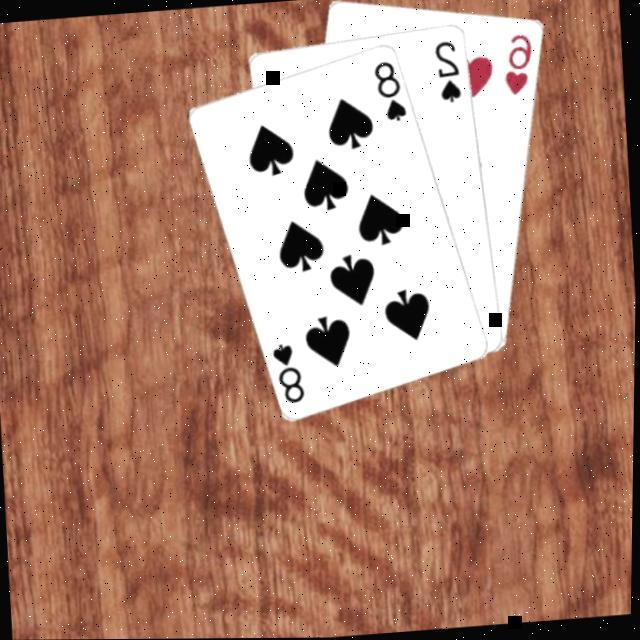2S: (428, 34, 464, 104)
6H: (496, 28, 538, 96)
8S: (368, 54, 410, 124), (267, 336, 309, 406)
